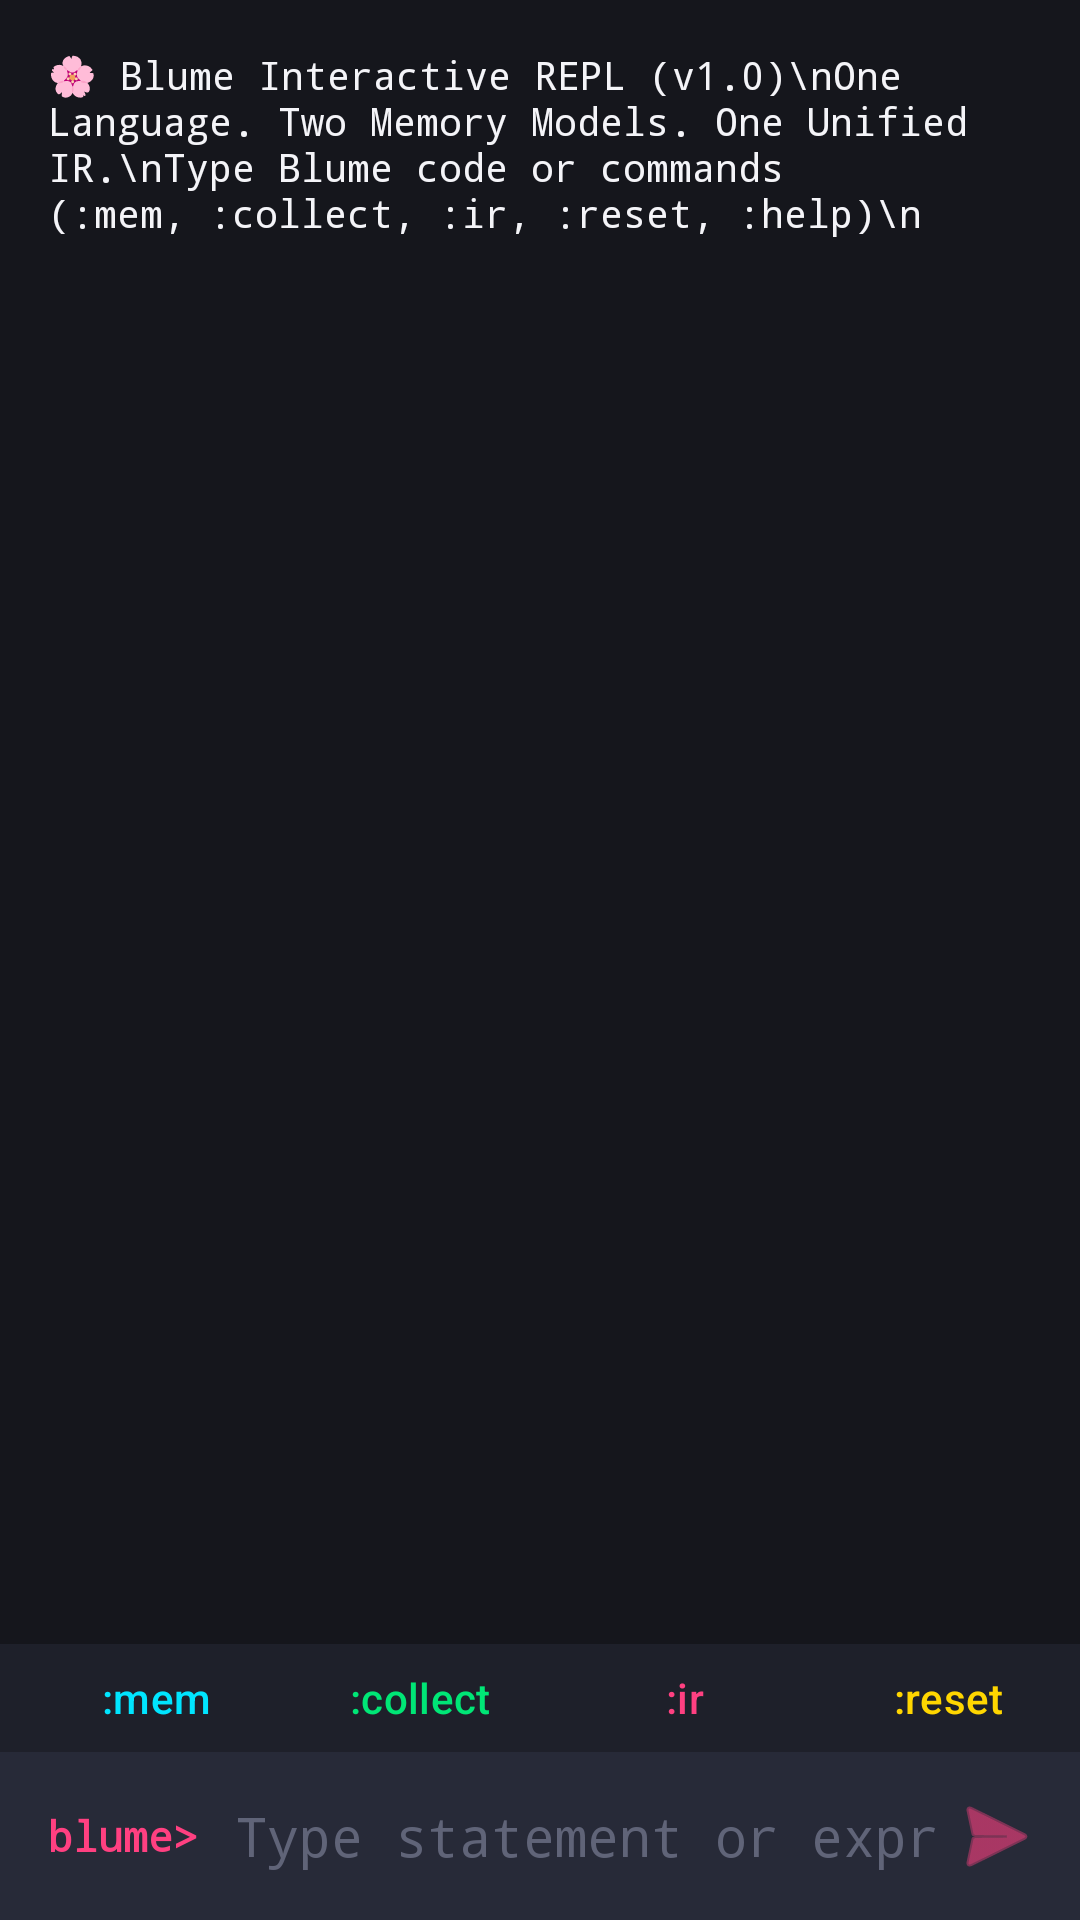

Where icons sit on this 1080 x 1920 app screen, as (x1, y1, x2, y2):
Send command: (966, 1806, 1028, 1867)
